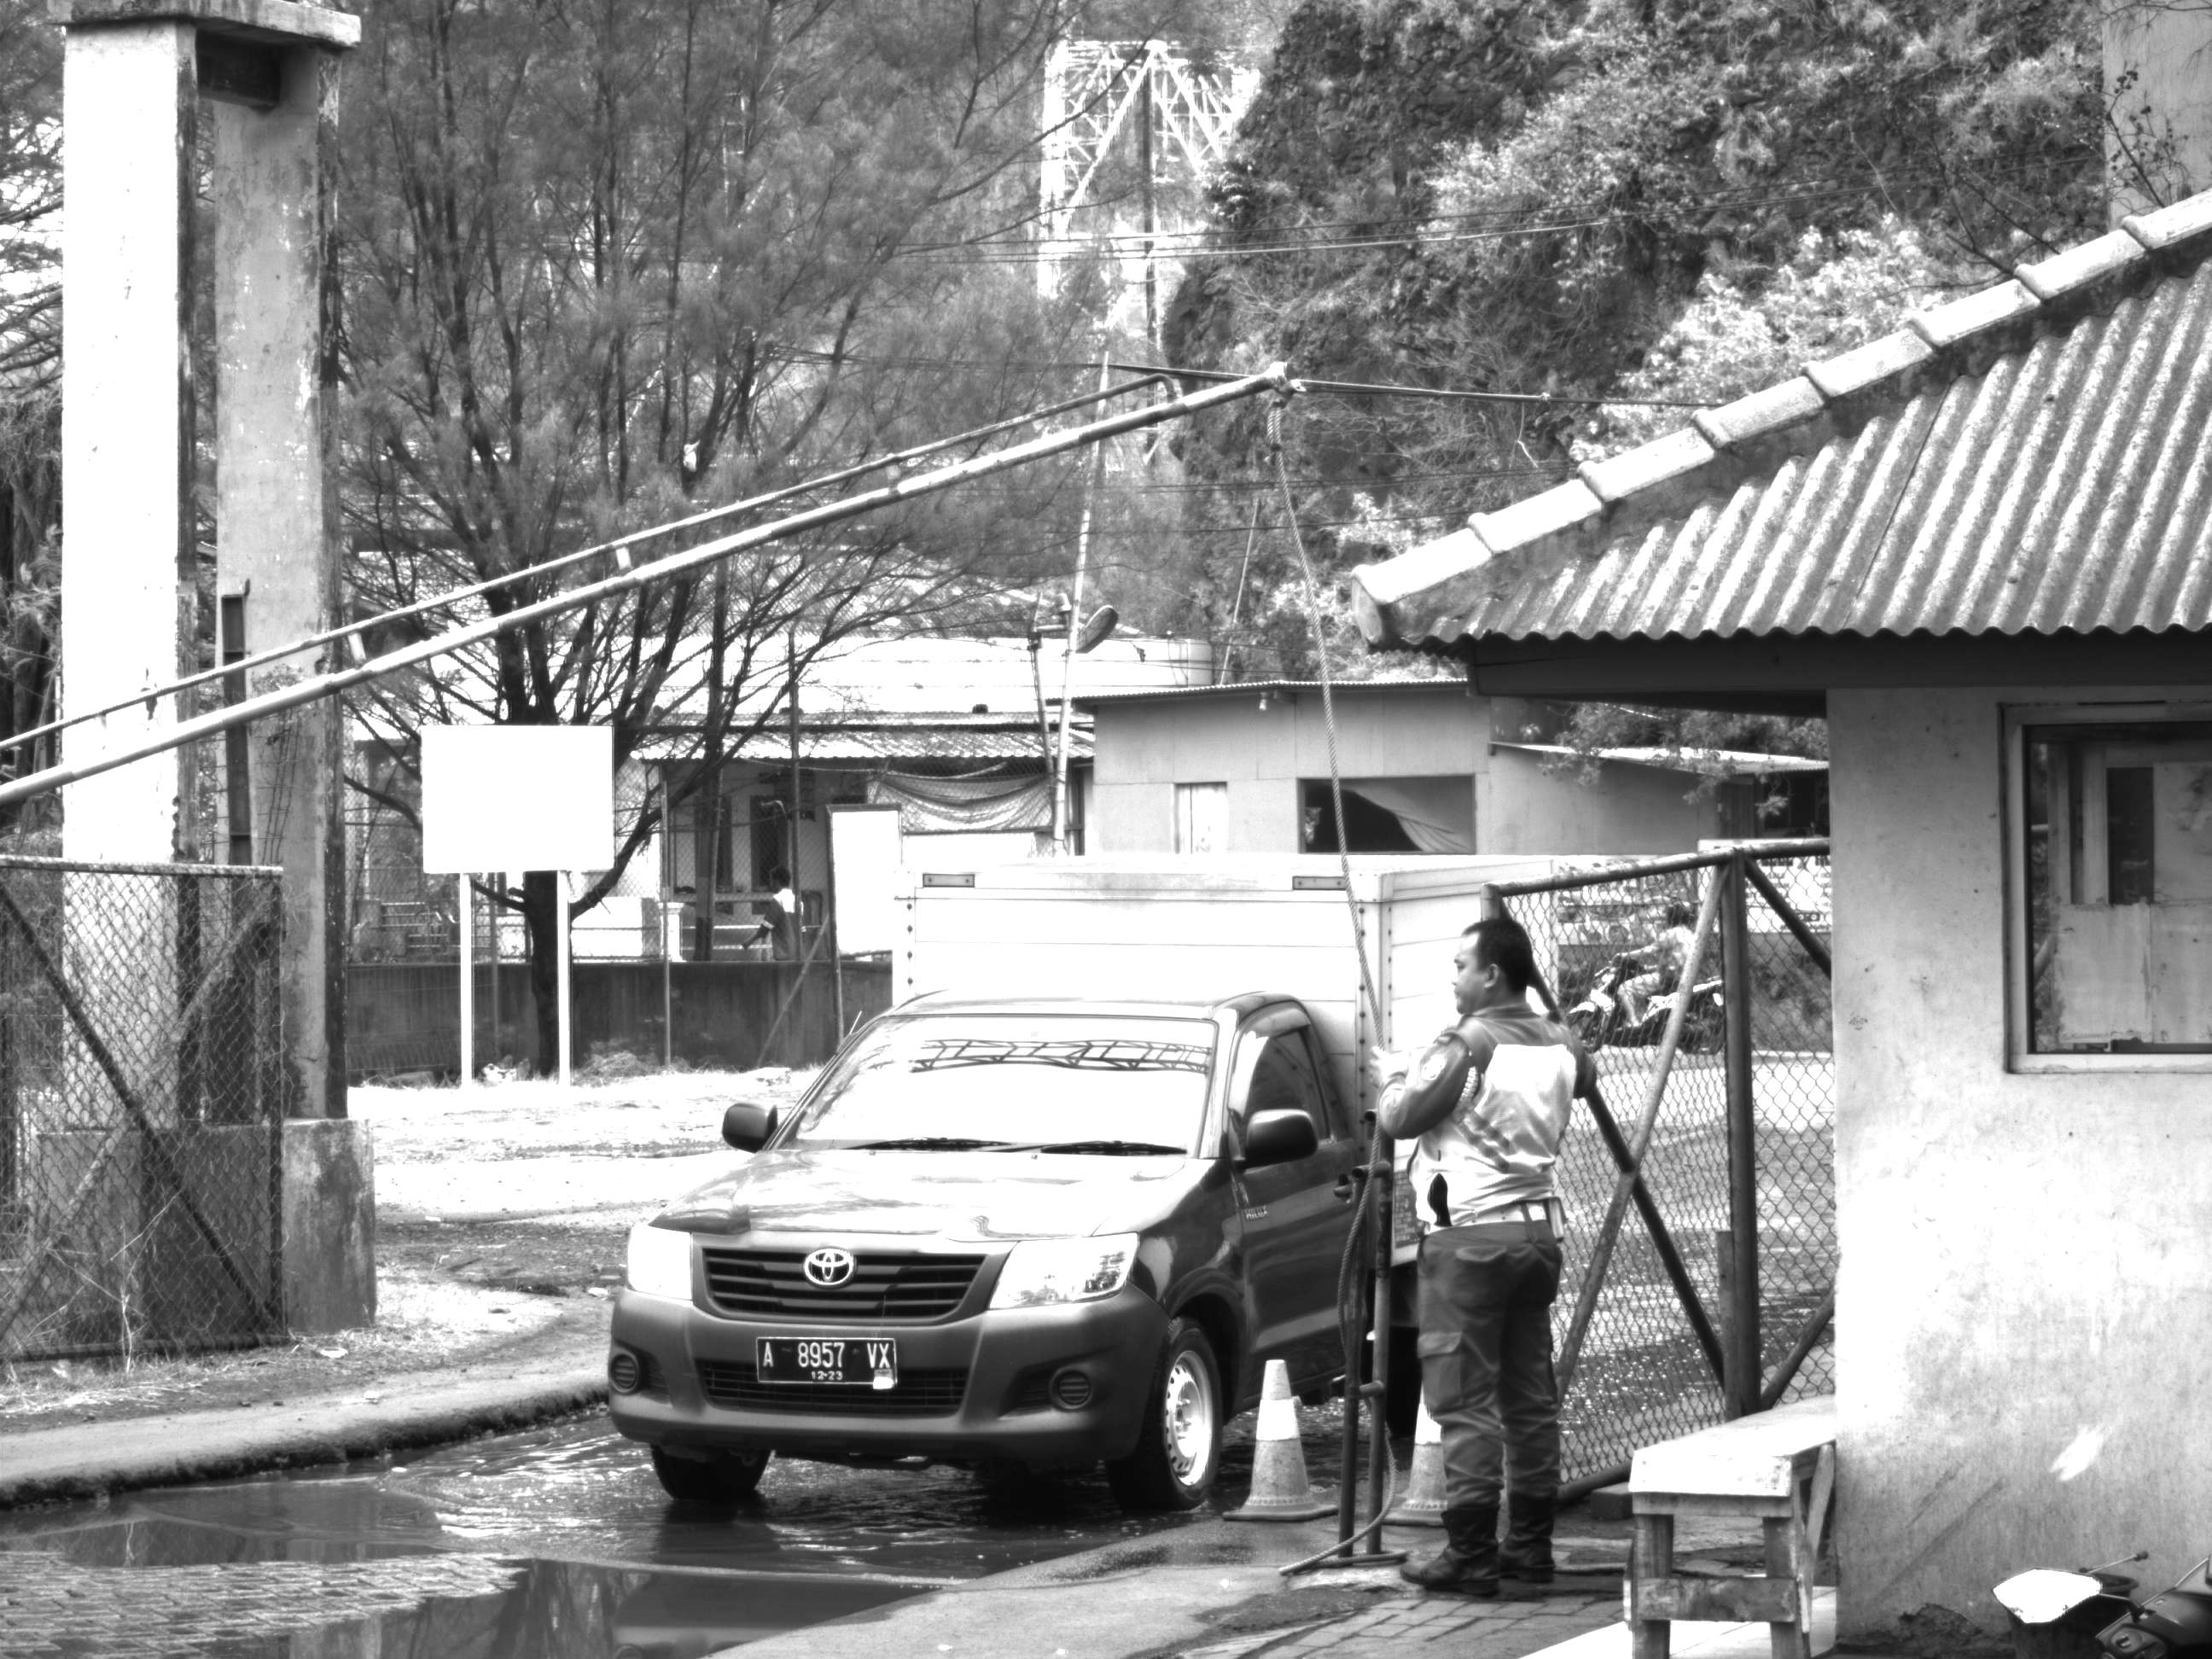day_truck_front: (602, 973, 1408, 1520)
plate: (753, 1339, 905, 1390)
